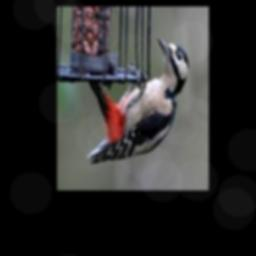Woodpecker: (87, 37, 188, 164)
